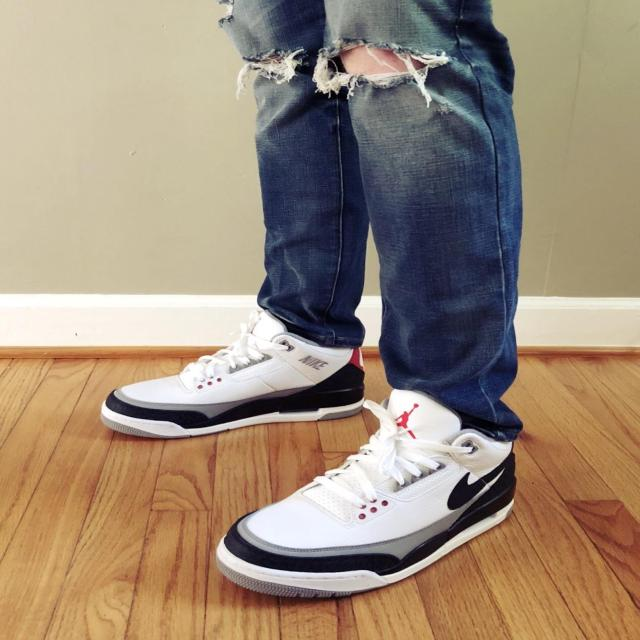shoe: (213, 387, 523, 608), (103, 308, 370, 438)
